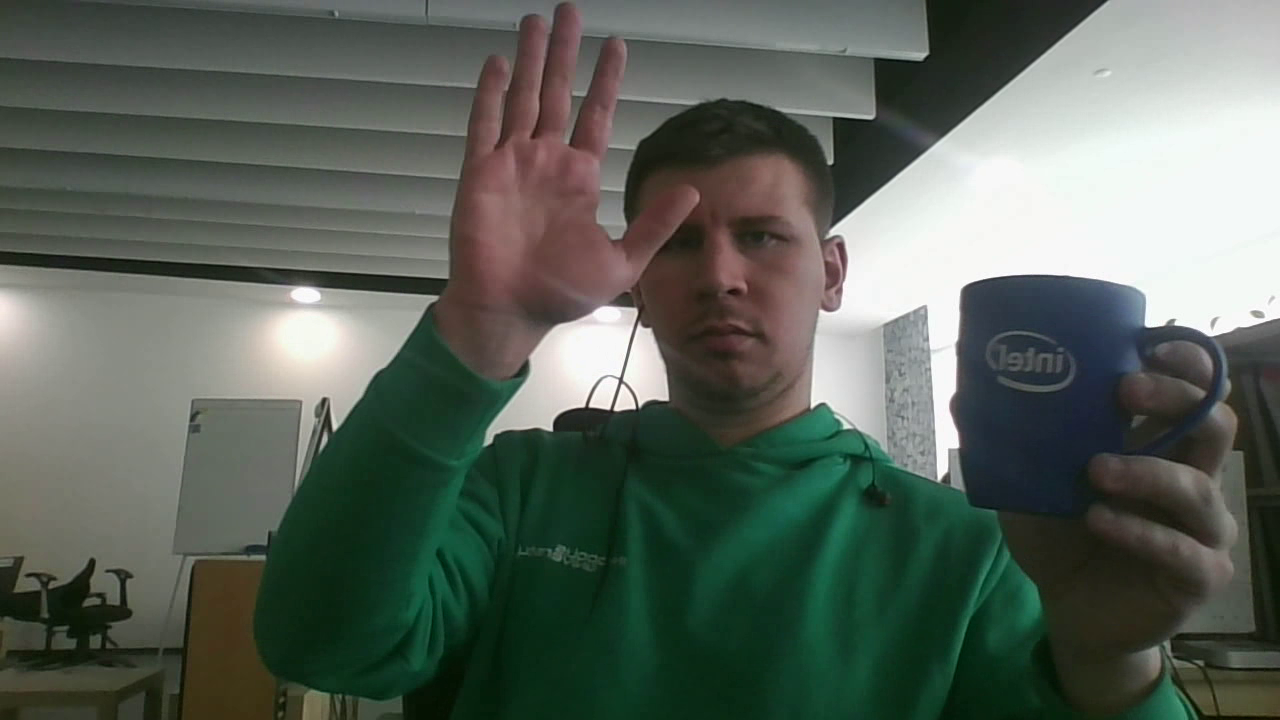cup: (956, 273, 1227, 522)
